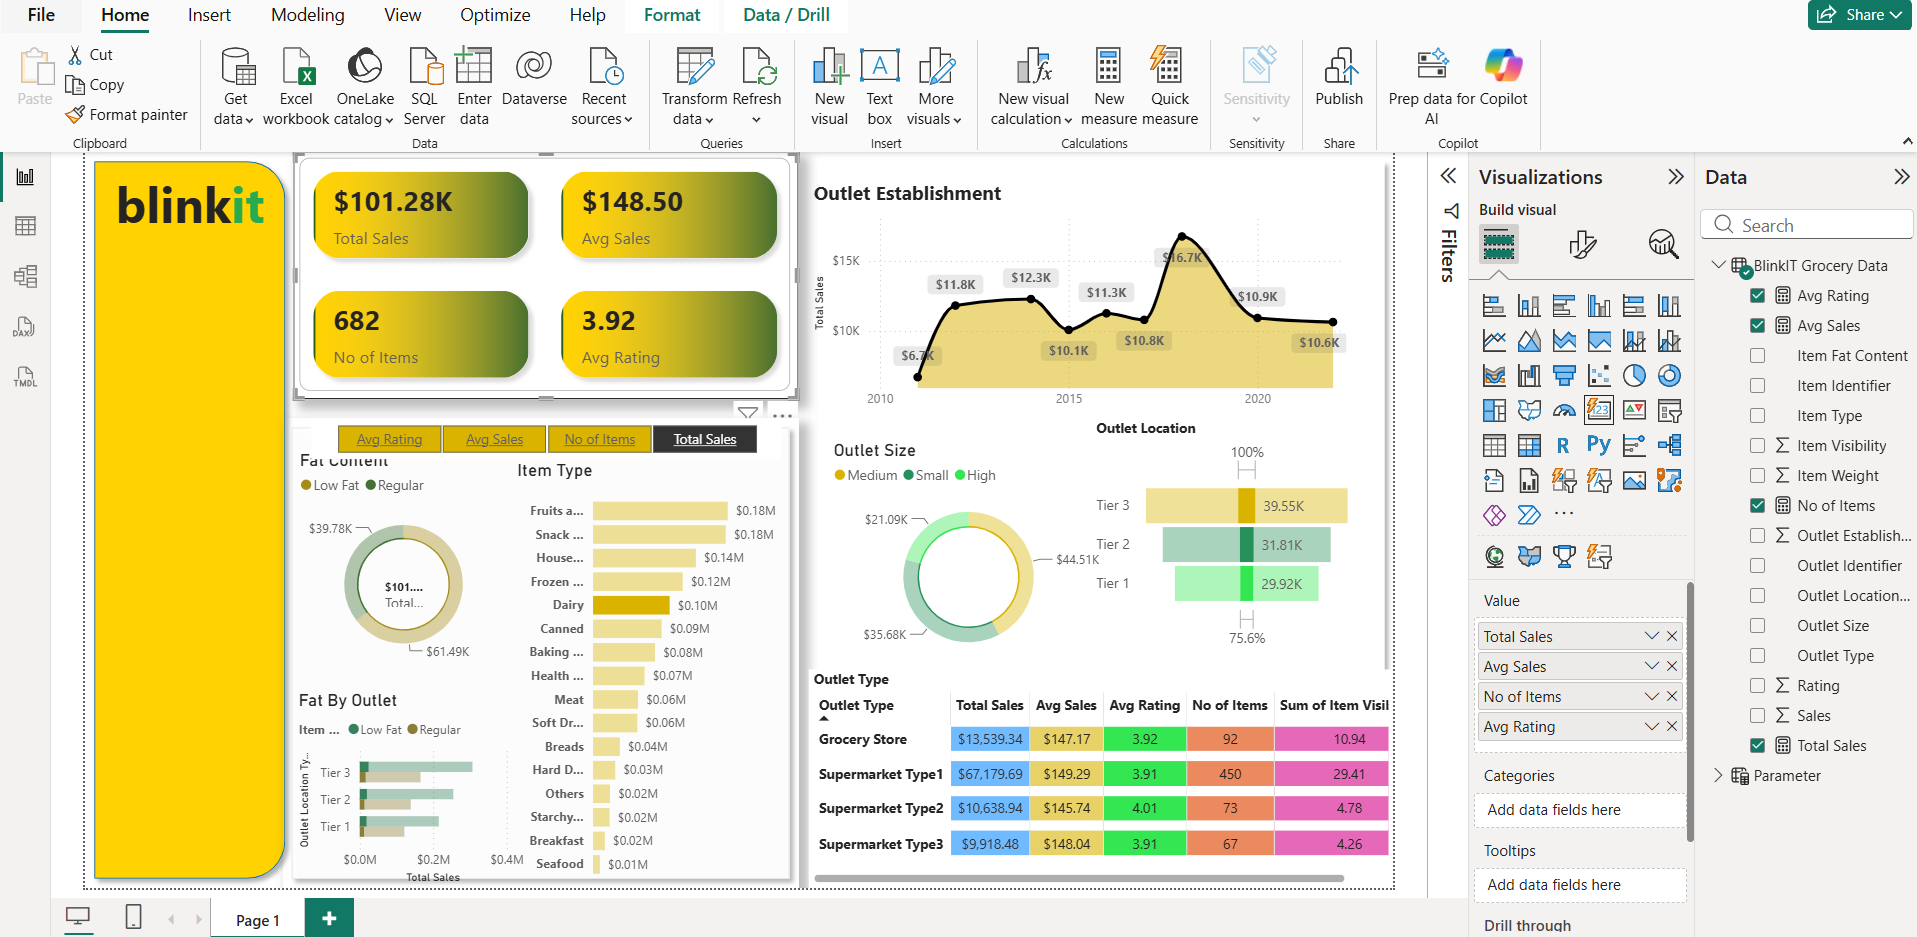

What the dashboard file says about the page in this screenshot:
{"tool":"powerbi","page":{"name":"Page 1","canvas":[1280,720],"ordinal":0},"visuals":[{"type":"shape","box":[0,0,205,720],"z":0},{"type":"textbox","box":[12.3,12.3,181.1,78.2],"z":1000},{"type":"cardVisual","fields":{"Data":["BlinkIT Grocery Data.Total Sales","BlinkIT Grocery Data.Avg Sales","BlinkIT Grocery Data.No of Items","BlinkIT Grocery Data.Avg Rating"]},"box":[204.5,0,494,241.5],"z":2000},{"type":"donutChart","title":"Fat Content","fields":{"Category":["BlinkIT Grocery Data.Item Fat Content"],"Y":["BlinkIT Grocery Data.Avg Rating","BlinkIT Grocery Data.Avg Sales","BlinkIT Grocery Data.No of Items","BlinkIT Grocery Data.Total Sales"]},"box":[204.2,278.8,212.8,231.1],"z":4000},{"type":"cardVisual","fields":{"Data":["BlinkIT Grocery Data.Total Sales"]},"box":[272.7,386.4,77,51.4],"z":6000},{"type":"clusteredBarChart","title":"Fat By Outlet","fields":{"Category":["BlinkIT Grocery Data.Outlet Location Type"],"Series":["BlinkIT Grocery Data.Item Fat Content"],"Y":["BlinkIT Grocery Data.Avg Rating"]},"box":[204.2,525.8,212.8,194.4],"z":7000},{"type":"barChart","title":"Item Type","fields":{"Category":["BlinkIT Grocery Data.Item Type"],"Y":["BlinkIT Grocery Data.Avg Rating","BlinkIT Grocery Data.Avg Sales","BlinkIT Grocery Data.No of Items","BlinkIT Grocery Data.Total Sales"]},"box":[418.2,278.8,264.1,441.4],"z":8000},{"type":"lineChart","title":"Outlet Establishment ","fields":{"Category":["BlinkIT Grocery Data.Outlet Establishment Year"],"Y":["BlinkIT Grocery Data.Total Sales"]},"box":[708,0,561.3,242.1],"z":10000},{"type":"donutChart","title":"Outlet Size","fields":{"Category":["BlinkIT Grocery Data.Outlet Size"],"Y":["BlinkIT Grocery Data.Avg Rating","BlinkIT Grocery Data.Avg Sales","BlinkIT Grocery Data.No of Items","BlinkIT Grocery Data.Total Sales"]},"box":[698.2,260.5,276.4,225],"z":11000},{"type":"funnel","title":"Outlet Location","fields":{"Category":["BlinkIT Grocery Data.Outlet Location Type"],"Y":["Sum(BlinkIT Grocery Data.Sales)"]},"box":[1007.6,260.5,272.7,225],"z":12000},{"type":"pivotTable","title":"Outlet Type","fields":{"Rows":["BlinkIT Grocery Data.Outlet Type"],"Values":["BlinkIT Grocery Data.Total Sales","BlinkIT Grocery Data.Avg Sales","BlinkIT Grocery Data.Avg Rating","BlinkIT Grocery Data.No of Items","Sum(BlinkIT Grocery Data.Item Visibility)"]},"box":[708,509.9,572.3,210.3],"z":13000}]}

Visuals, with their boxes on the page's 1280x720 design canvas (x1, y1, x2, y2). These are canvas units, not pixel positions in the 1917x937 screenshot, which may show the page scaled, cropped or inside an application window:
shape: x1=0 y1=0 x2=205 y2=720
textbox: x1=12 y1=12 x2=193 y2=90
cardVisual - BlinkIT Grocery Data.Total Sales x BlinkIT Grocery Data.Avg Sales: x1=204 y1=0 x2=698 y2=242
"Fat Content" donutChart: x1=204 y1=279 x2=417 y2=510
cardVisual - BlinkIT Grocery Data.Total Sales: x1=273 y1=386 x2=350 y2=438
"Fat By Outlet" clusteredBarChart: x1=204 y1=526 x2=417 y2=720
"Item Type" barChart: x1=418 y1=279 x2=682 y2=720
"Outlet Establishment " lineChart: x1=708 y1=0 x2=1269 y2=242
"Outlet Size" donutChart: x1=698 y1=260 x2=975 y2=486
"Outlet Location" funnel: x1=1008 y1=260 x2=1280 y2=486
"Outlet Type" pivotTable: x1=708 y1=510 x2=1280 y2=720
